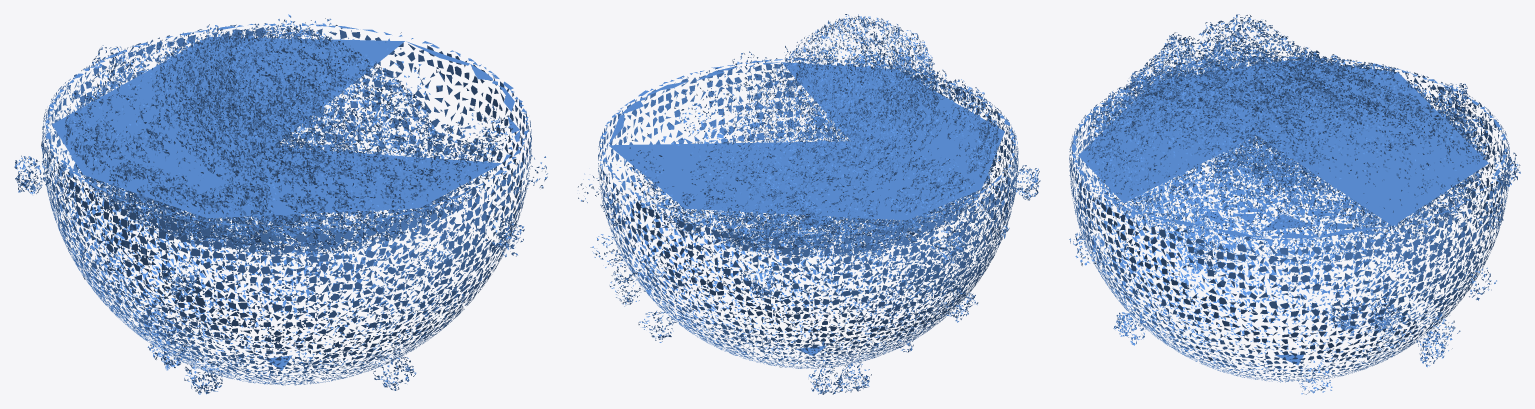
File: 3DPX-003873.glb
3 renders of one model, left to right at view 1: azimuth 30°, elevation 25°; view 2: azimuth 150°, elevation 25°; view 3: azimuth 270°, elevation 25°, orthographic. The views are drawn at different scales.
Parts seen in each view (by area): view 1: hiv_virion_0-repaired-nih3d; view 2: hiv_virion_0-repaired-nih3d; view 3: hiv_virion_0-repaired-nih3d.
Part boxes in pixels (bbox=[...]): hiv_virion_0-repaired-nih3d: bbox=[14, 14, 547, 394]; hiv_virion_0-repaired-nih3d: bbox=[578, 14, 1040, 394]; hiv_virion_0-repaired-nih3d: bbox=[1069, 14, 1520, 394].
Bounding box in the file's own units: 16.7 × 12.86 × 15.9.
